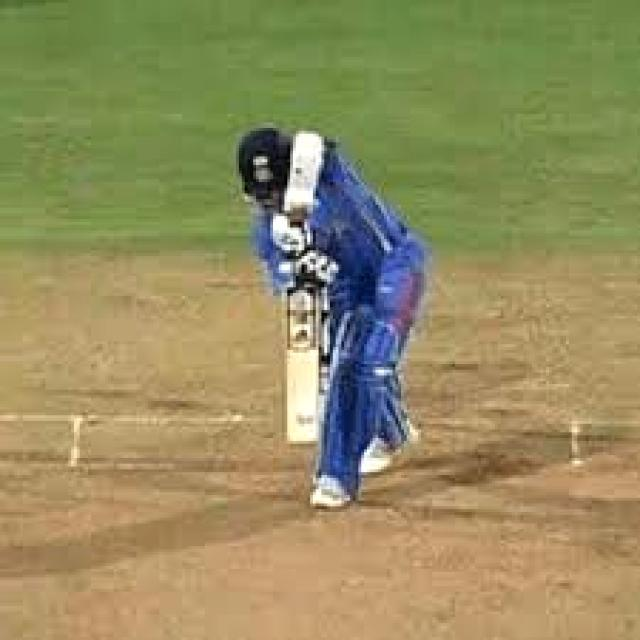bat: (284, 290, 322, 444)
toe: (283, 433, 323, 449)
